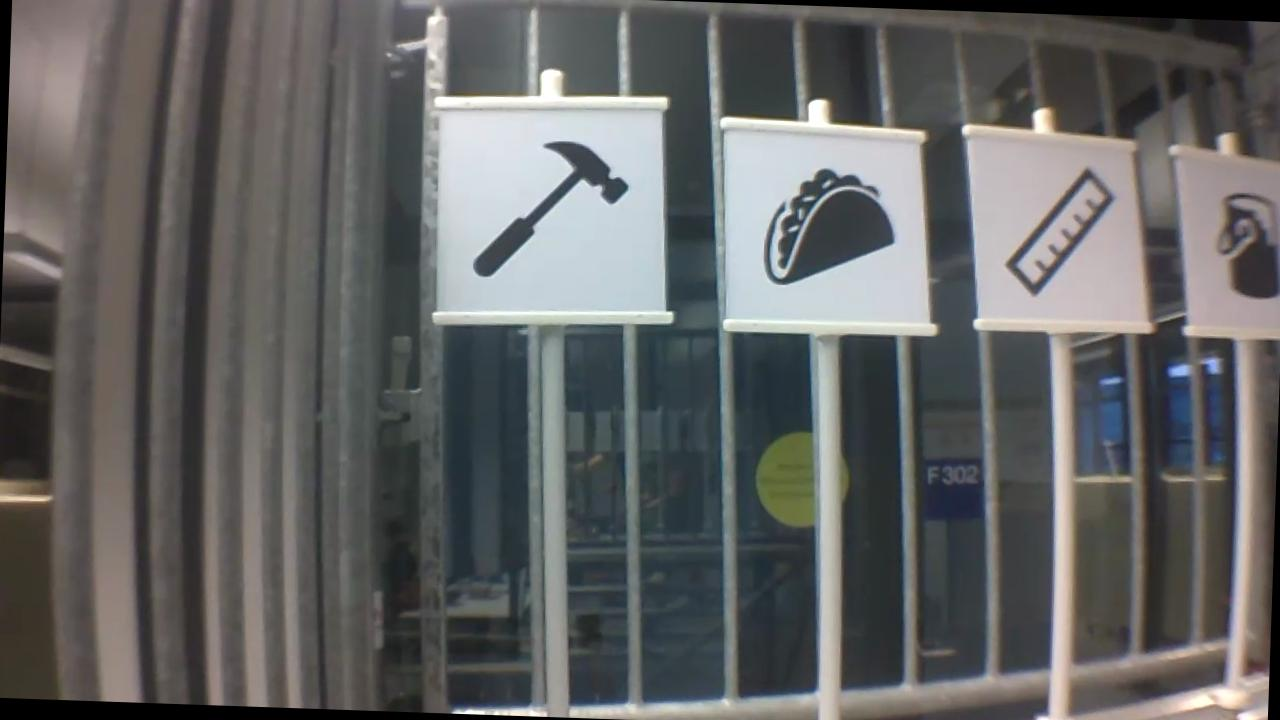bucket: (1208, 186, 1280, 304)
ruler: (998, 158, 1123, 306)
taco: (759, 159, 903, 291)
